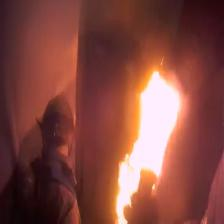fire: (116, 72, 181, 224)
